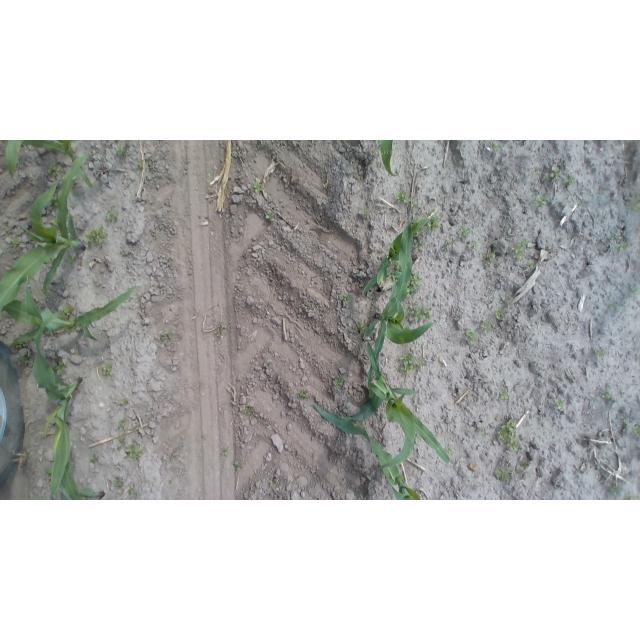Maize: (0, 155, 88, 317), (362, 219, 437, 406), (331, 368, 451, 475), (311, 399, 427, 500), (35, 324, 89, 498), (1, 280, 140, 346), (359, 212, 435, 301), (3, 140, 96, 192), (379, 141, 400, 180)
Weeds: (498, 419, 521, 451), (86, 224, 108, 244), (406, 272, 422, 296), (400, 351, 417, 373), (512, 240, 528, 260), (126, 442, 143, 460), (411, 306, 429, 323), (426, 216, 442, 233), (396, 189, 412, 205), (106, 207, 121, 224), (241, 404, 259, 418), (483, 249, 496, 268), (45, 162, 61, 177), (114, 143, 129, 158), (19, 353, 33, 367), (464, 329, 478, 343), (535, 194, 550, 207), (54, 360, 67, 375), (59, 306, 76, 317), (127, 485, 140, 499), (495, 469, 510, 481), (296, 390, 311, 402), (548, 168, 561, 181), (458, 226, 471, 239), (554, 398, 567, 411), (251, 181, 264, 194), (216, 323, 228, 337), (360, 206, 373, 218), (600, 387, 612, 400), (564, 174, 576, 187), (342, 294, 355, 306), (593, 349, 607, 360), (494, 308, 506, 320), (159, 332, 173, 342), (335, 376, 345, 390), (612, 229, 624, 240), (102, 364, 113, 376), (111, 479, 125, 488), (234, 458, 244, 470), (617, 243, 630, 252), (470, 240, 481, 250), (611, 485, 622, 495), (622, 416, 631, 428), (13, 341, 28, 348), (9, 237, 19, 247), (443, 241, 452, 252), (415, 238, 424, 249), (481, 322, 492, 331), (411, 201, 420, 212), (357, 321, 365, 333), (222, 446, 231, 456), (266, 211, 275, 221), (118, 419, 127, 429), (90, 453, 98, 464), (118, 439, 126, 450), (136, 158, 145, 167), (500, 391, 509, 400), (609, 303, 619, 311), (633, 425, 639, 438), (626, 493, 639, 499), (121, 398, 130, 406), (373, 149, 380, 159), (5, 227, 13, 235), (492, 143, 500, 151), (268, 478, 277, 485), (447, 446, 454, 455), (419, 360, 426, 369), (632, 286, 639, 294), (323, 181, 330, 189), (70, 202, 79, 208), (478, 428, 485, 435), (511, 470, 517, 478)
